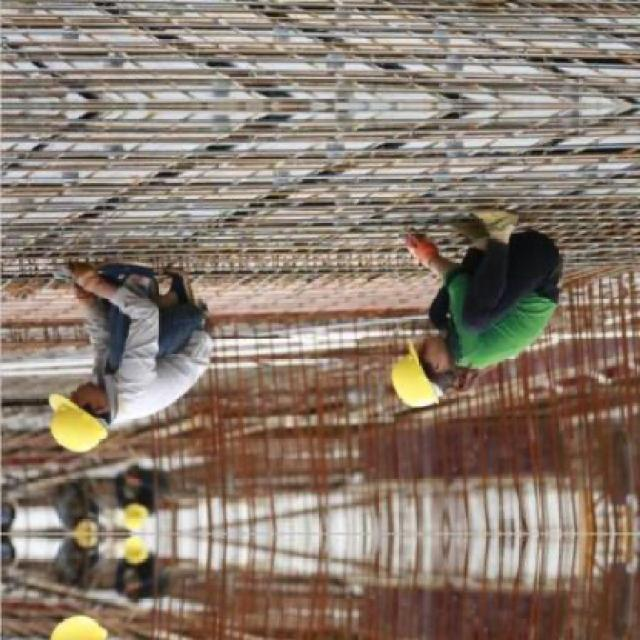con casco: (386, 322, 491, 424), (59, 366, 132, 482), (113, 487, 178, 545)
